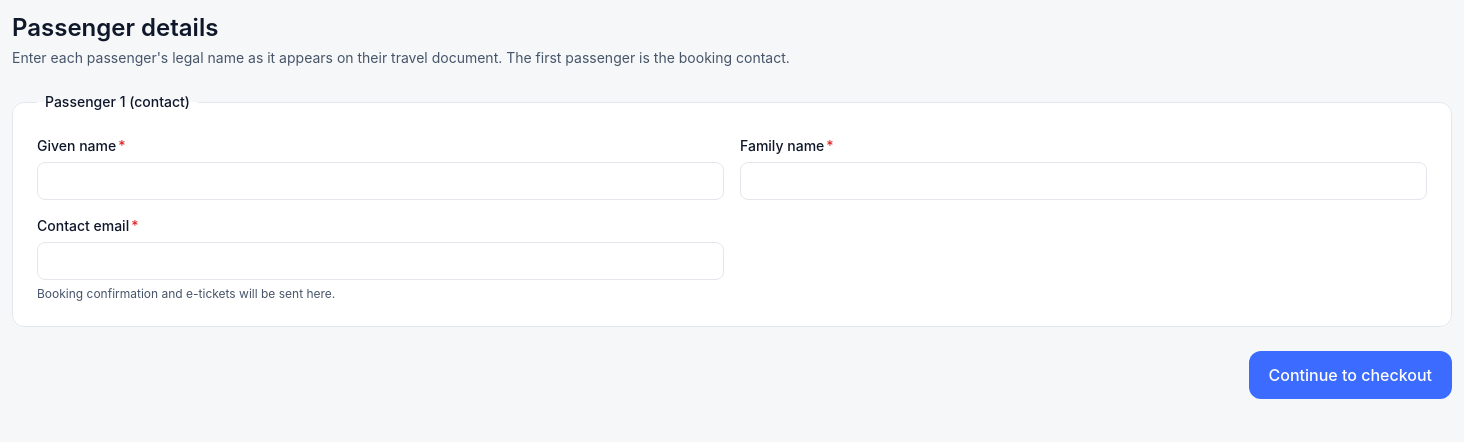
PassengersScreen › blocks navigation and surfaces validation errors when required fields are missing
Click the button "Continue to checkout": (1350, 375) [1248,351,1452,399]
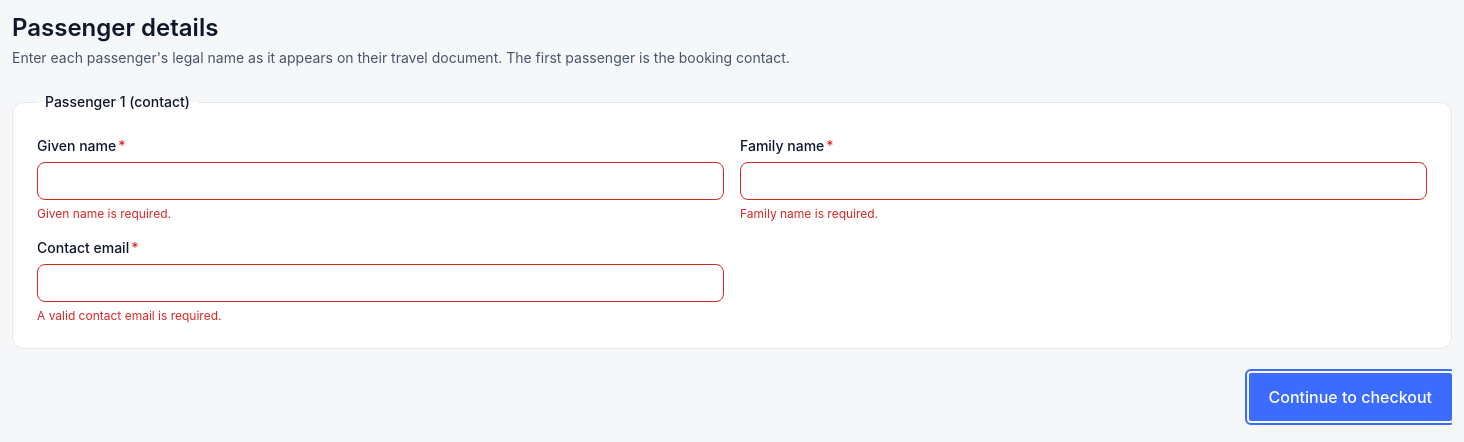
Now the text "Given name is required." is shown, box [37,206,171,221]
Now the text "Family name is required." is shown, box [740,206,878,221]
Now the text "A valid contact email is required." is shown, box [37,308,222,323]
